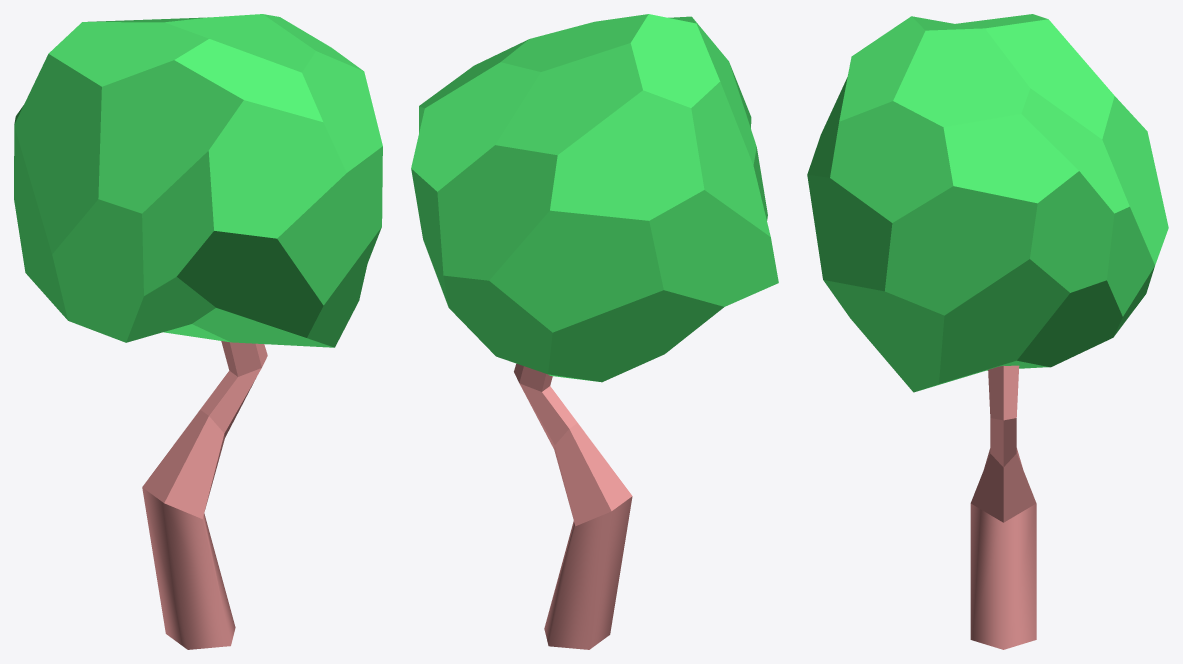
Rendered from tree-low-02.glb.
3 views of the same model, side by side, from view 1: azimuth 30°, elevation 25°; view 2: azimuth 150°, elevation 25°; view 3: azimuth 270°, elevation 25° (orthographic). The views are drawn at different scales.
Visible parts, largest first — view 1: Hedra001, Cylinder002; view 2: Hedra001, Cylinder002; view 3: Hedra001, Cylinder002.
Boxes of the visible parts, x1=… form: Hedra001: x1=14, y1=14, x2=382, y2=347; Cylinder002: x1=142, y1=341, x2=267, y2=649; Hedra001: x1=411, y1=14, x2=778, y2=382; Cylinder002: x1=514, y1=363, x2=632, y2=649; Hedra001: x1=807, y1=14, x2=1168, y2=392; Cylinder002: x1=970, y1=365, x2=1036, y2=649.
Size of the model in its own units: 2.17 by 4.01 by 2.23.
